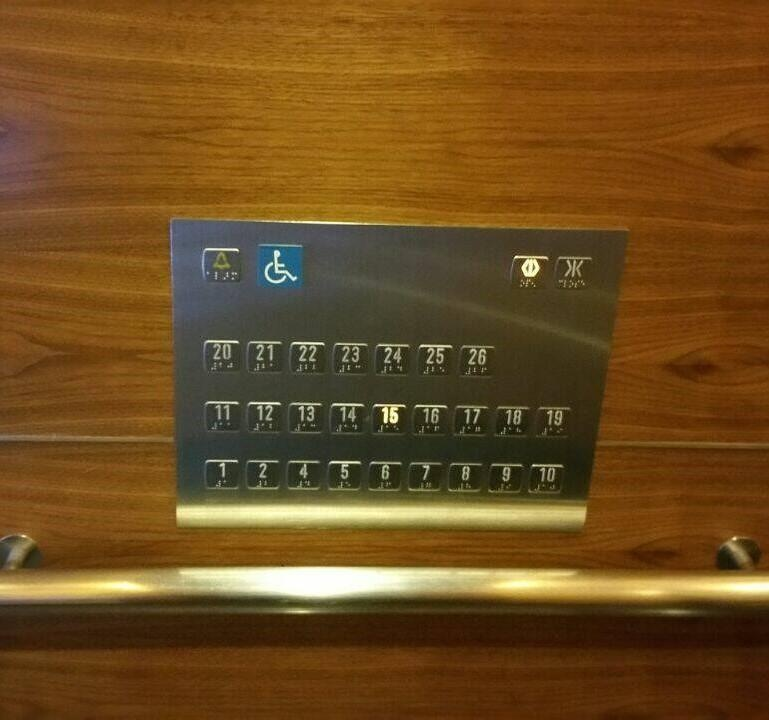1: (204, 459, 241, 490)
10: (528, 464, 563, 494)
11: (205, 402, 242, 432)
12: (247, 402, 283, 432)
13: (288, 403, 323, 433)
14: (330, 404, 365, 434)
15: (373, 404, 408, 435)
16: (413, 405, 448, 436)
17: (454, 406, 489, 437)
18: (495, 407, 529, 437)
19: (538, 407, 571, 439)
2: (245, 460, 280, 490)
20: (203, 340, 242, 373)
21: (247, 341, 284, 374)
22: (289, 342, 326, 375)
23: (333, 343, 370, 376)
24: (374, 344, 411, 377)
25: (417, 344, 453, 377)
26: (458, 345, 498, 378)
4: (286, 460, 320, 490)
5: (329, 461, 362, 490)
6: (368, 462, 401, 492)
7: (408, 462, 441, 492)
8: (447, 463, 481, 493)
9: (488, 463, 523, 493)
CH: (256, 244, 304, 289)
alarm: (200, 248, 241, 283)
close: (553, 254, 594, 292)
open: (509, 254, 550, 291)
